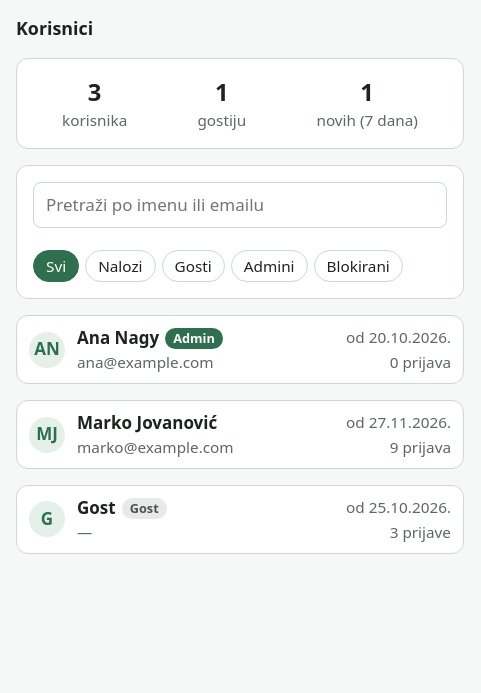
Users › blocks a user from their details
Click the text "Marko Jovanović".
click(147, 424)  # box [77, 411, 217, 436]
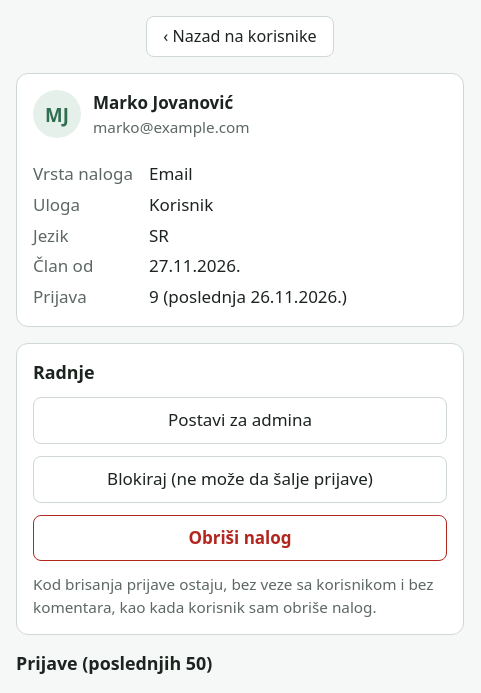
Check: the text "Email" is shown, box [149, 162, 193, 185]
Click the button "Blokiraj (ne može da šalje prijave)".
click(240, 479)  # box [33, 456, 447, 503]
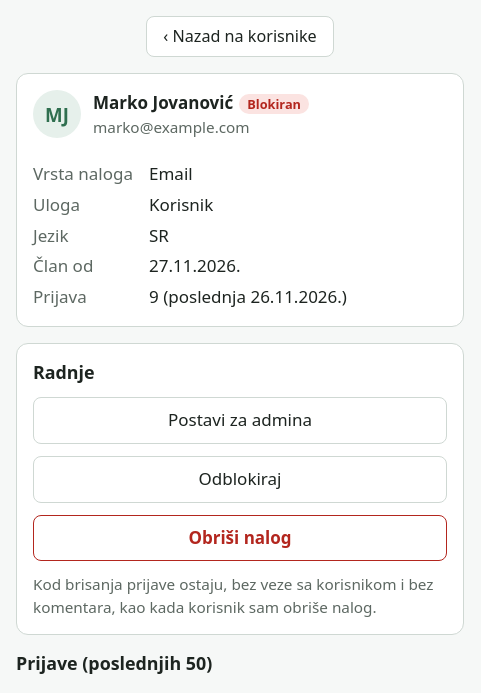
Check: the button "Odblokiraj" is shown, box [33, 456, 447, 503]
Check: the text "Blokiran" is shown, box [239, 94, 309, 114]
